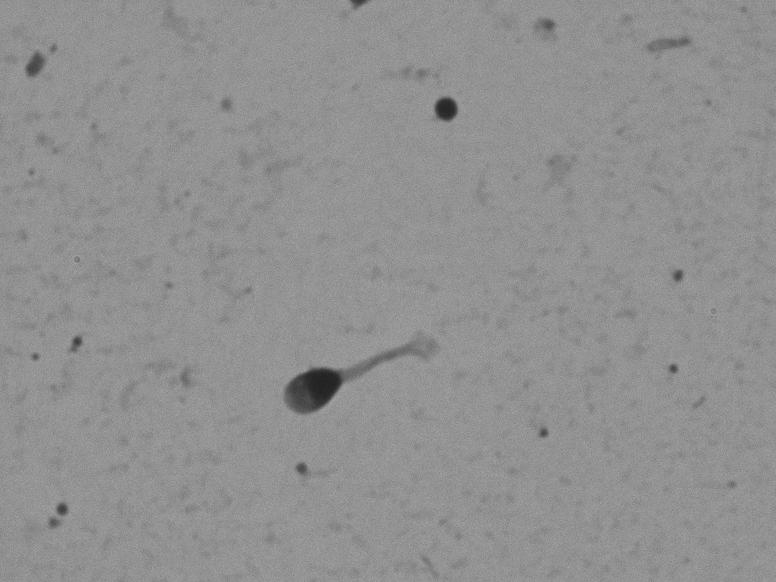Abnormal: (257, 312, 483, 445)
